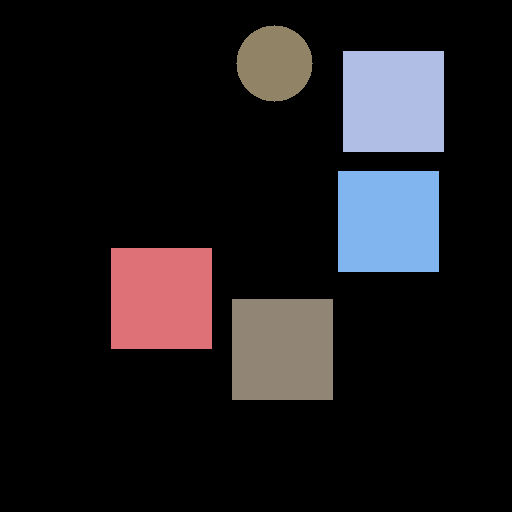circle: (236, 25, 312, 101)
square: (232, 299, 332, 399), (111, 248, 211, 348), (338, 171, 438, 271), (343, 51, 443, 151)
